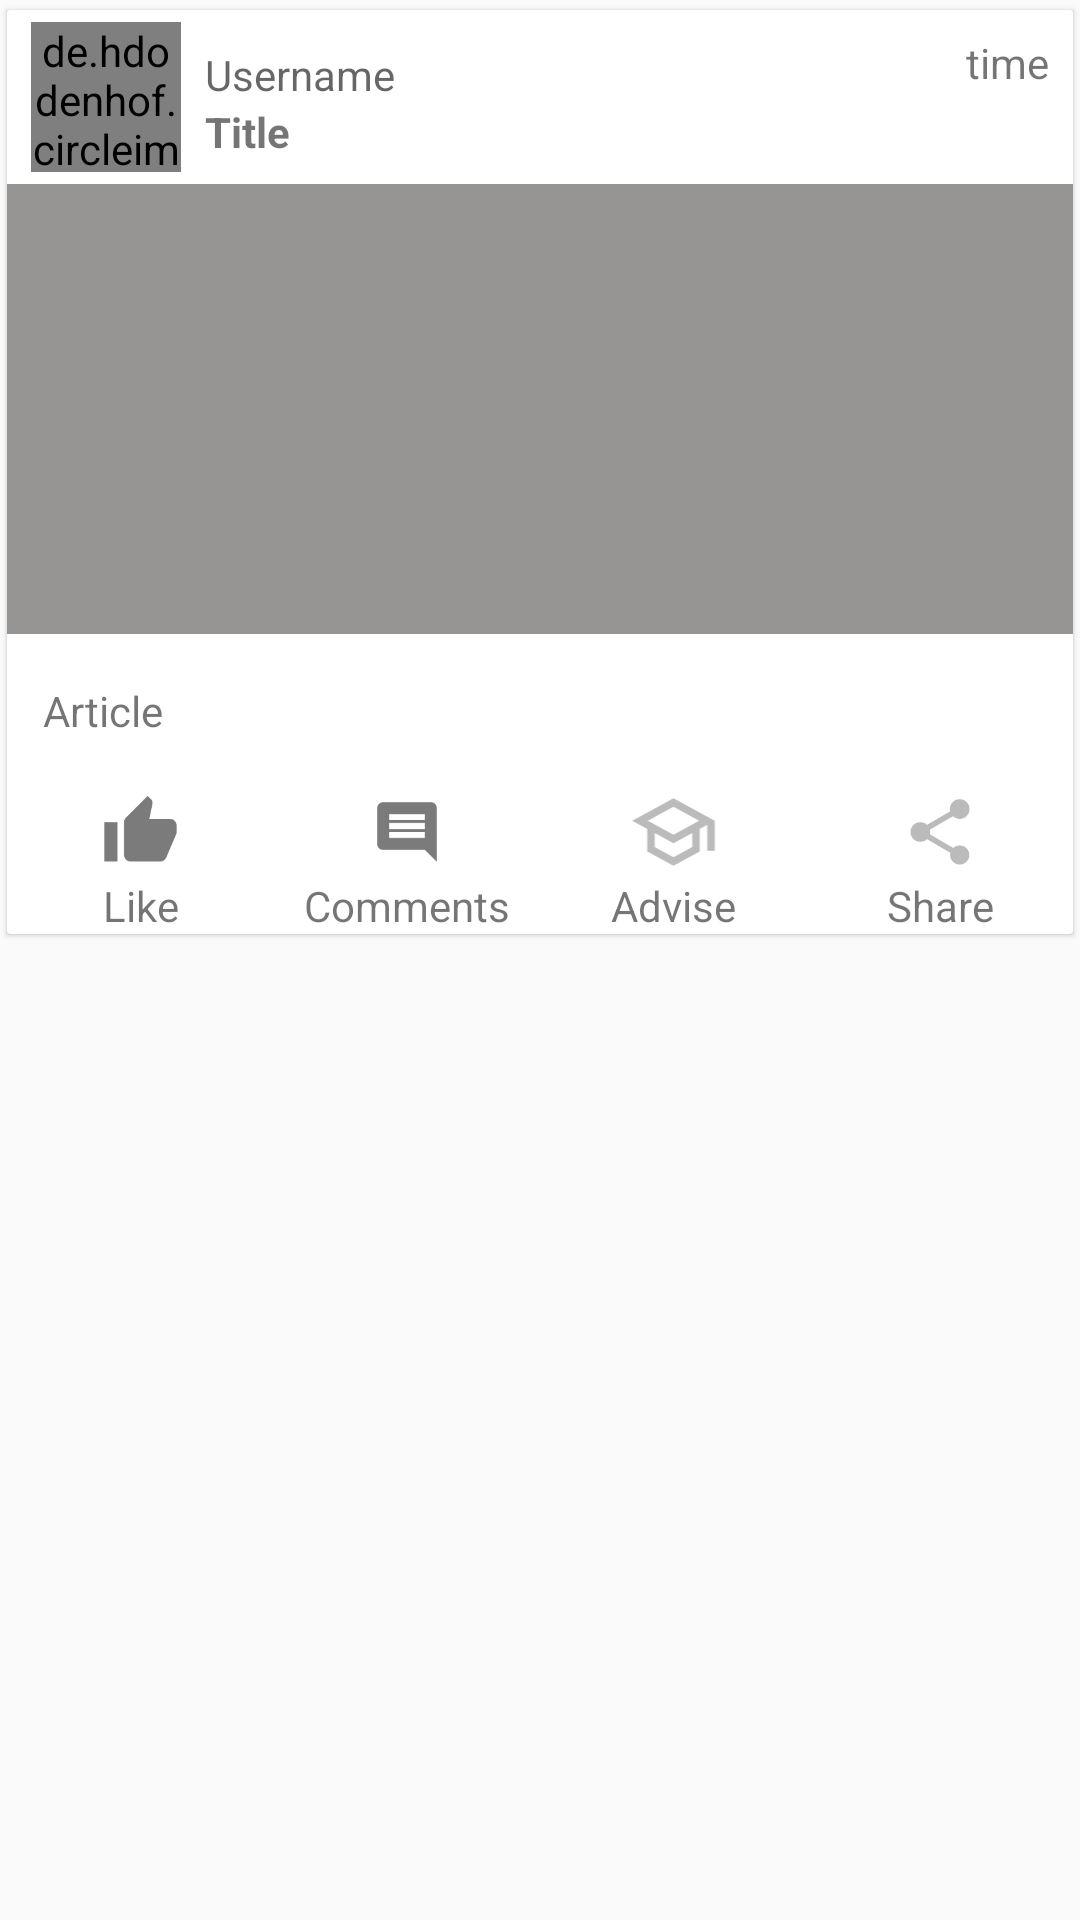

Icons on this 1080x1920 Android screen, each with its box as {"x1": x1, "y1": y1, "x2": x2, "y2": y2}:
school: {"x1": 633, "y1": 798, "x2": 715, "y2": 866}
